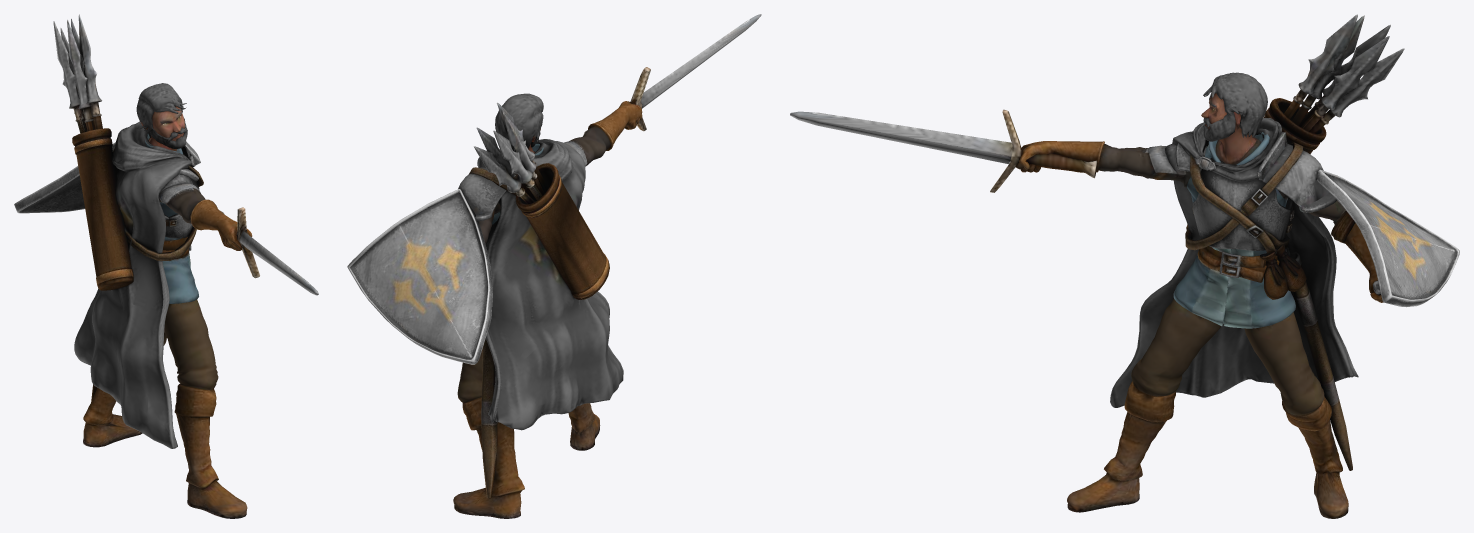
Rendered from MZ4250 - Human Male Guard Captain_3 2025.glb.
3 views of the same model, side by side, from view 1: azimuth 30°, elevation 25°; view 2: azimuth 150°, elevation 25°; view 3: azimuth 270°, elevation 25° (orthographic). The views are drawn at different scales.
Visible parts, largest first — view 1: Body.002; view 2: Body.002; view 3: Body.002.
Boxes of the visible parts, box(x1,y1,x2,y2) form: Body.002: box(14, 14, 318, 518); Body.002: box(347, 14, 761, 518); Body.002: box(790, 14, 1459, 518).
Size of the model in its own units: 42.66 by 97.2 by 124.
6 materials, 6 textured.
